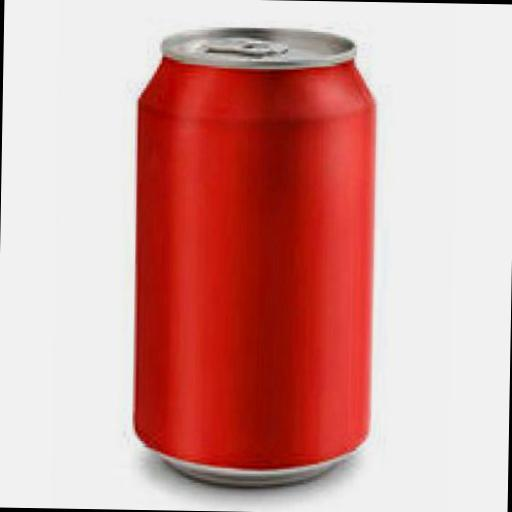metal: (129, 31, 376, 488)
